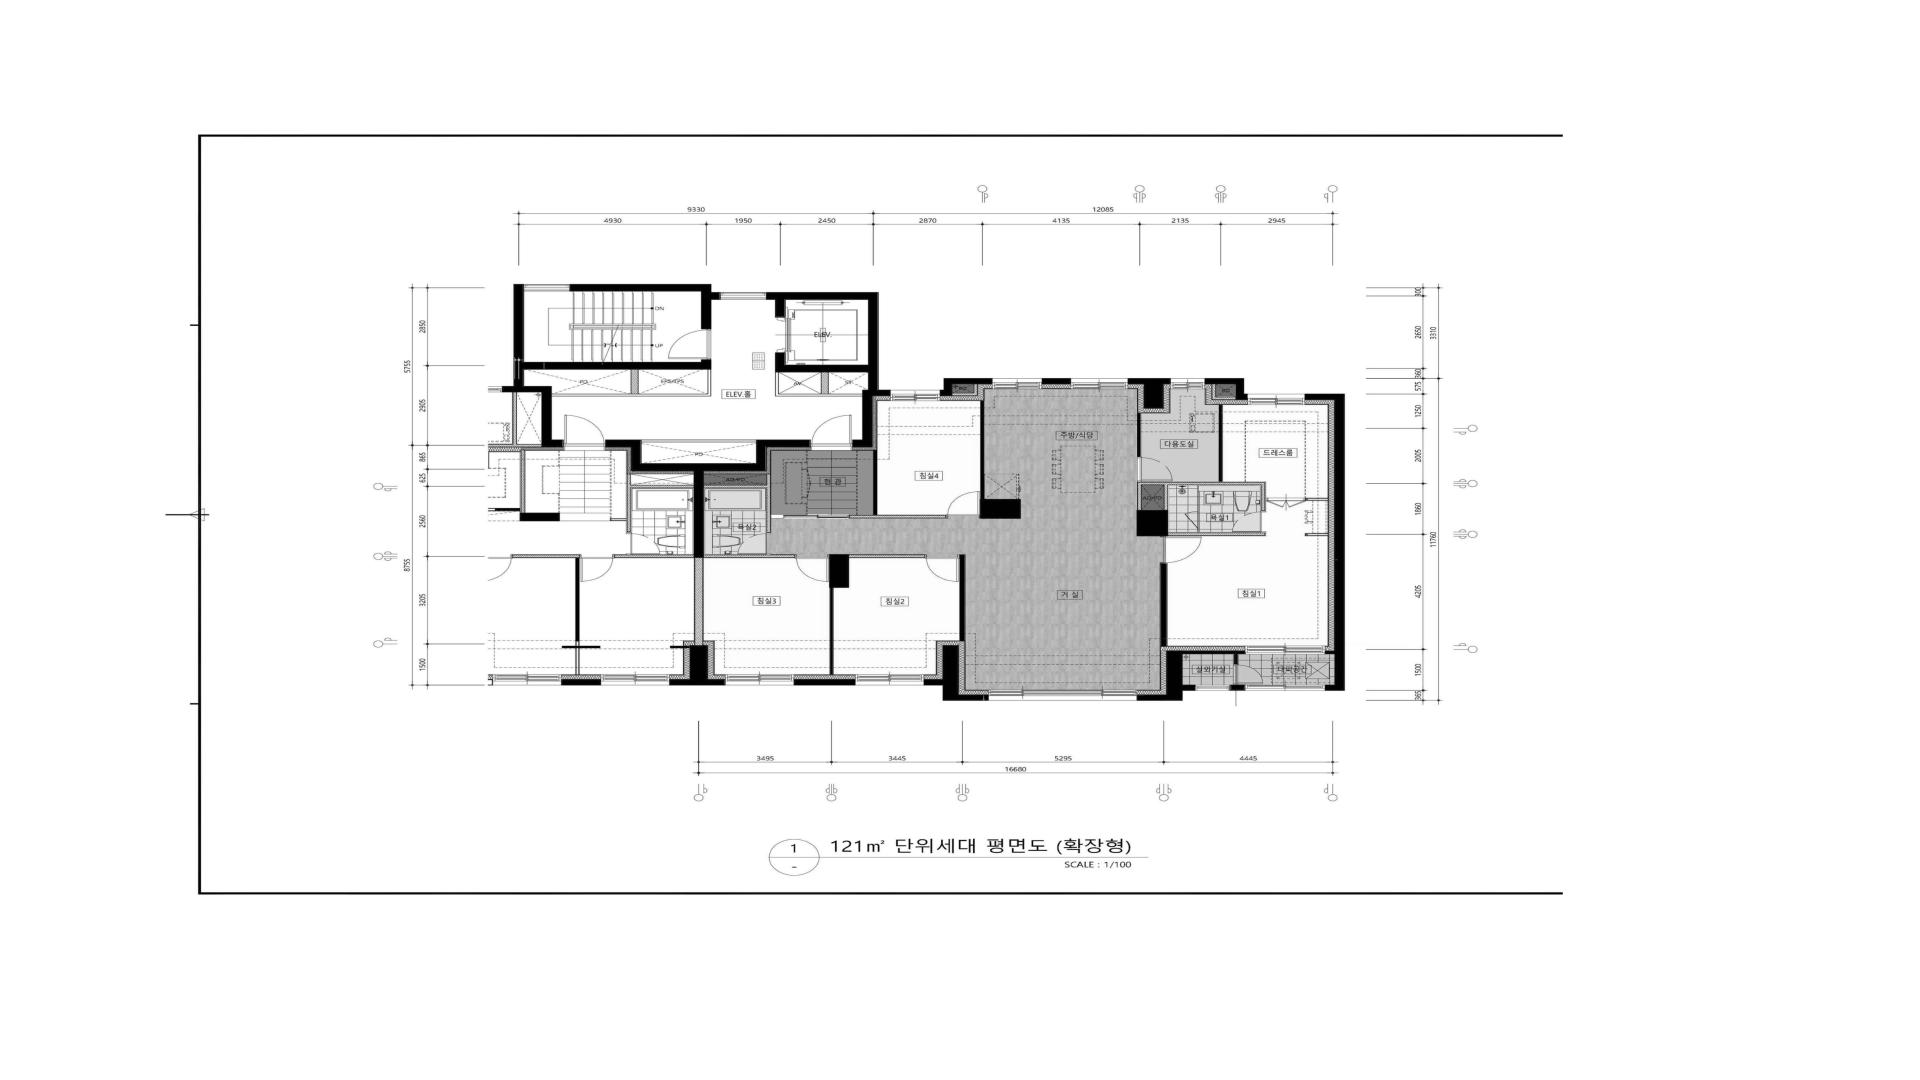door: (810, 414, 852, 446), (668, 329, 711, 359), (564, 415, 605, 446), (1162, 537, 1202, 563), (795, 554, 828, 582), (1137, 457, 1173, 482), (926, 555, 959, 582), (946, 491, 979, 518), (737, 533, 771, 554), (1231, 512, 1266, 532), (1233, 664, 1263, 684), (1266, 497, 1304, 507), (1183, 511, 1198, 529), (784, 515, 848, 519)
wall: (605, 439, 810, 558), (512, 284, 711, 392), (766, 292, 890, 448), (1304, 393, 1345, 691), (569, 284, 721, 329), (923, 646, 988, 700), (1137, 651, 1195, 701), (524, 386, 563, 448), (774, 352, 869, 373), (694, 645, 725, 686), (939, 378, 992, 396), (1204, 378, 1247, 400), (1136, 510, 1168, 537), (979, 499, 1021, 519), (694, 558, 703, 645), (828, 554, 849, 588), (1159, 563, 1167, 647), (1143, 384, 1164, 409), (959, 555, 965, 641), (980, 401, 985, 499), (552, 394, 708, 397), (793, 679, 855, 686), (829, 588, 834, 674), (848, 515, 946, 519), (1168, 532, 1265, 536), (1218, 405, 1223, 482), (1141, 482, 1266, 485), (704, 554, 795, 558), (641, 439, 756, 442), (766, 474, 771, 533), (775, 394, 862, 397), (873, 450, 877, 515), (1127, 378, 1170, 384), (1183, 650, 1245, 654), (849, 555, 926, 558), (630, 369, 638, 394), (704, 485, 767, 488), (1041, 378, 1071, 384), (1137, 413, 1141, 457), (820, 373, 828, 394), (1260, 485, 1266, 512), (707, 370, 711, 397), (1137, 483, 1141, 510), (952, 392, 978, 396), (1230, 685, 1245, 691), (774, 373, 778, 394), (1211, 384, 1216, 400), (1216, 396, 1236, 400), (1164, 485, 1167, 510), (1304, 498, 1328, 501), (1305, 533, 1328, 536), (1232, 654, 1238, 664), (771, 515, 784, 519), (973, 384, 978, 392), (1324, 650, 1334, 654), (1197, 485, 1198, 511), (1197, 529, 1198, 532)
window: (988, 690, 1137, 700), (855, 674, 923, 686), (725, 674, 793, 686), (1245, 645, 1324, 654), (1247, 394, 1304, 405), (1071, 378, 1128, 389), (890, 389, 939, 401), (992, 378, 1041, 389), (1245, 685, 1325, 691), (1170, 378, 1204, 389), (721, 292, 766, 300), (524, 284, 569, 291), (1195, 685, 1230, 691)
